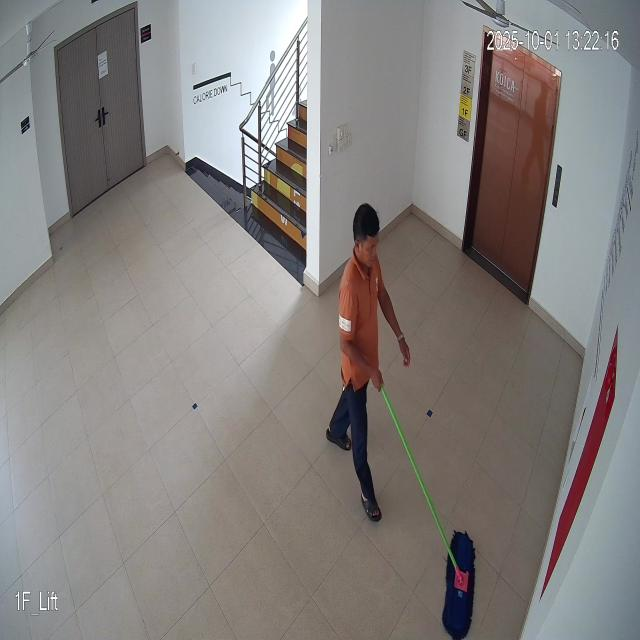face: (348, 193, 384, 272)
